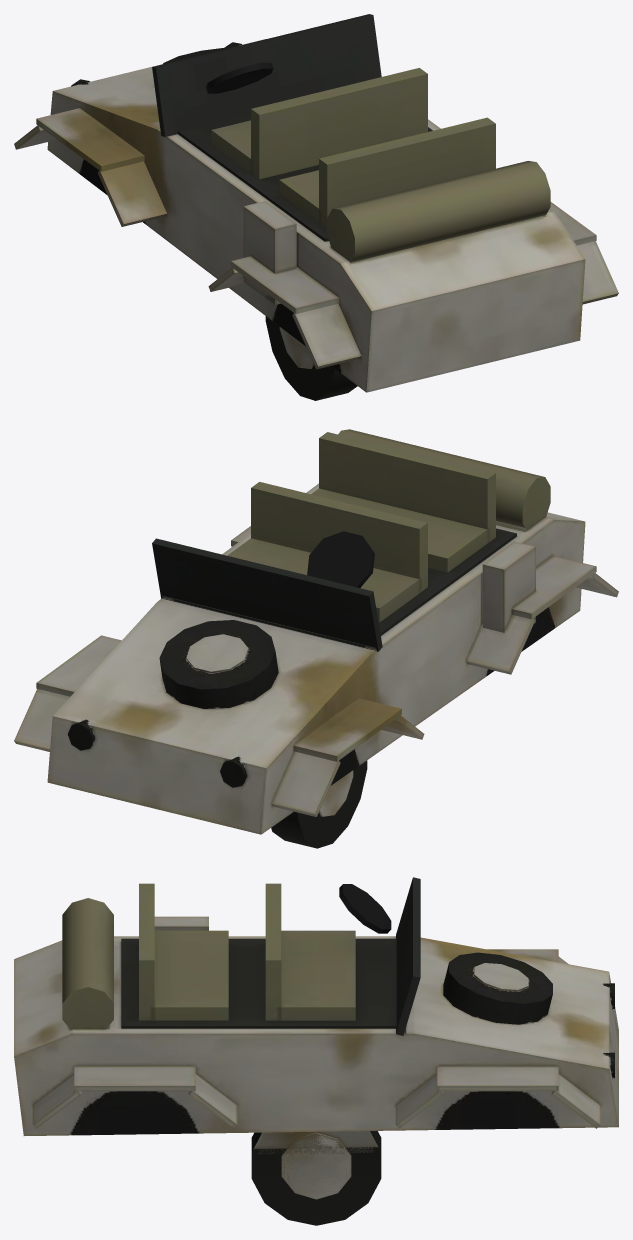
The model's file is kubelwagen_winter.glb.
3 views of the same model, one above another, from view 1: azimuth 30°, elevation 25°; view 2: azimuth 150°, elevation 25°; view 3: azimuth 270°, elevation 25° (orthographic). The views are drawn at different scales.
Parts seen in each view (by area): view 1: hull_ok, wheels_L_0_ok, wheels_L_1_ok; view 2: hull_ok, wheels_L_0_ok; view 3: hull_ok, wheels_L_0_ok, wheels_L_1_ok, wheels_R_3_ok.
Boxes of the visible parts, box(x1,y1,x2,y2) form: hull_ok: box(14, 14, 618, 392); wheels_L_0_ok: box(266, 317, 357, 400); wheels_L_1_ok: box(265, 316, 354, 394); hull_ok: box(14, 429, 618, 834); wheels_L_0_ok: box(271, 760, 367, 848); hull_ok: box(14, 877, 618, 1135); wheels_L_0_ok: box(251, 1131, 381, 1225); wheels_L_1_ok: box(252, 1131, 380, 1219); wheels_R_3_ok: box(252, 1179, 374, 1216).
Bounding box in the file's own units: 1.66 × 1.74 × 3.1.
Materials: 3 (3 with a texture image).
